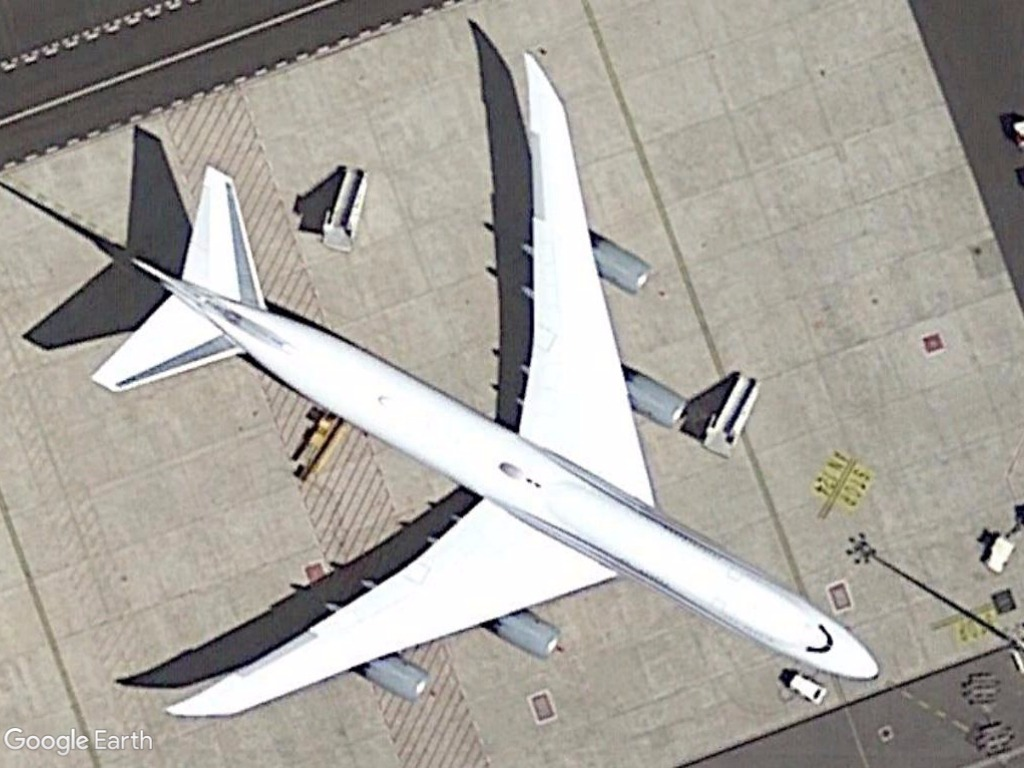airliner: (81, 51, 887, 735)
stairtruck: (692, 367, 765, 458), (312, 163, 376, 256)
